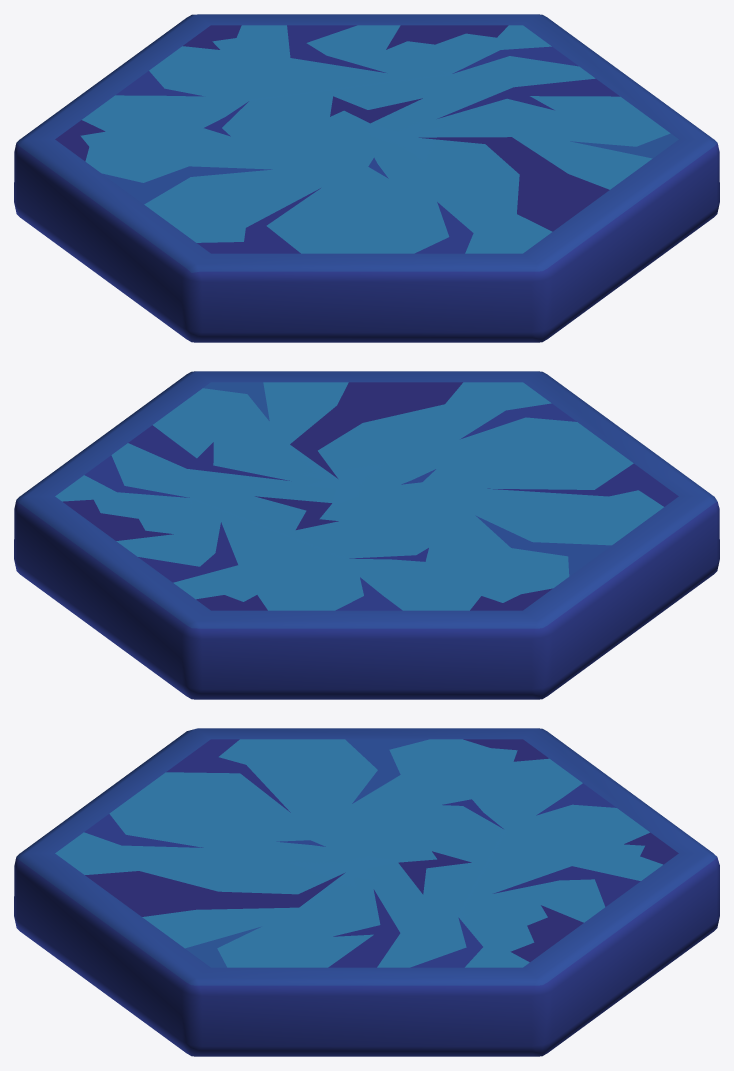
File: Platform blue 4.fbx
3 renders of one model, top to bottom at view 1: azimuth 30°, elevation 25°; view 2: azimuth 150°, elevation 25°; view 3: azimuth 270°, elevation 25°, orthographic.
Visible parts, largest first — view 1: Platform blue 4; view 2: Platform blue 4; view 3: Platform blue 4.
Part boxes in pixels (x1,y1,x2,y2): Platform blue 4: (14,14,719,342); Platform blue 4: (14,371,719,699); Platform blue 4: (14,728,719,1056).
Size of the model in its own units: 625 by 83.5 by 715.
